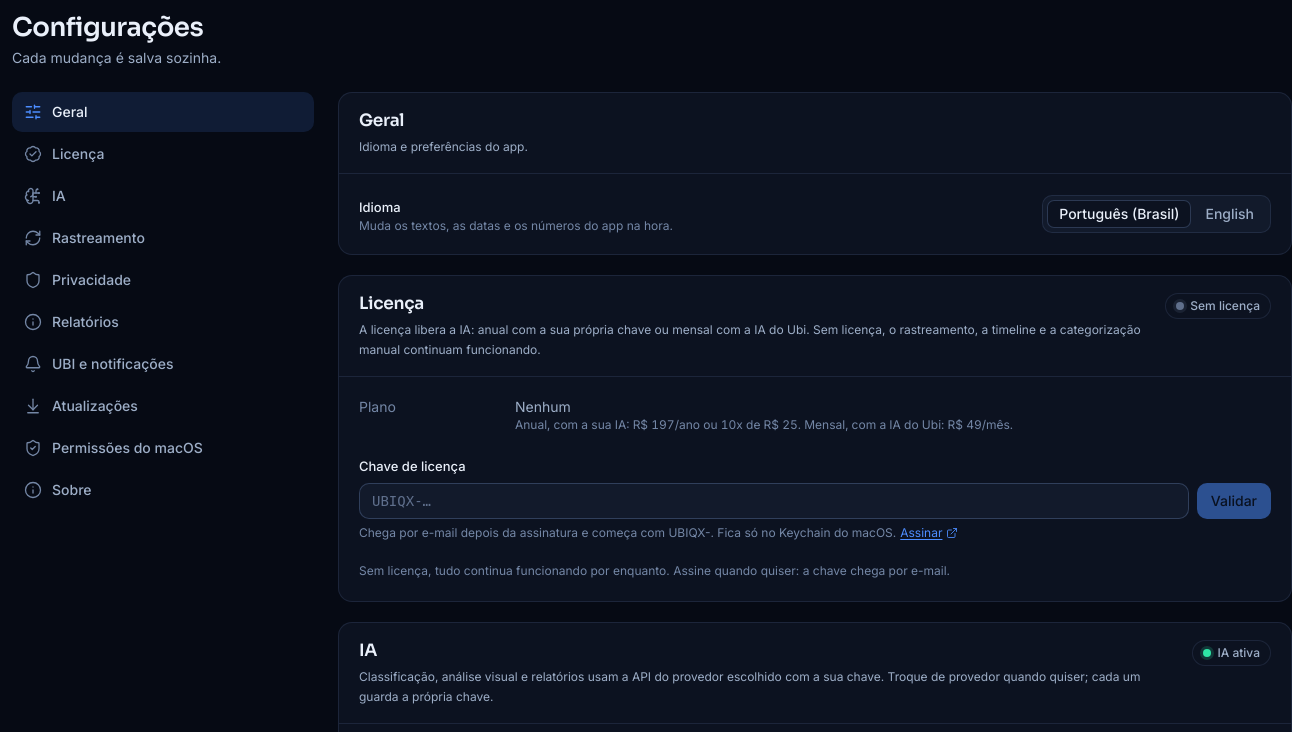
it: Settings · language › switches the whole UI and persists Settings.language from the general section
The width and height of the screenshot is (1292, 732).
Expected: the heading "Configurações" is shown, [12,12,221,44]
Click the radio button labelled "English" at x=1230, y=214, box [1193,200,1266,228]
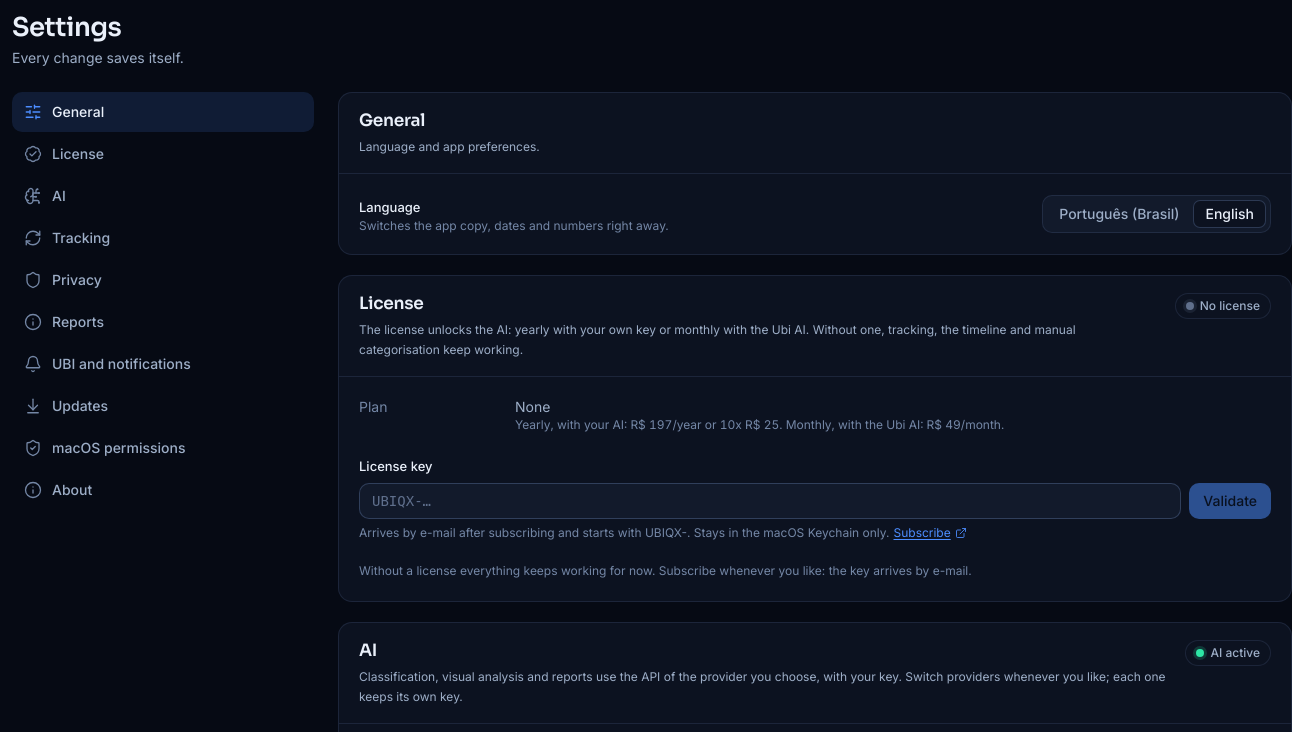
Expected: the heading "Settings" is shown, [12,11,121,44]
Expected: the element named "Language" is shown, [1042,195,1271,233]
// and back
Click the radio button labelled "Português (Brasil)" at x=1119, y=214, box [1047,200,1191,228]
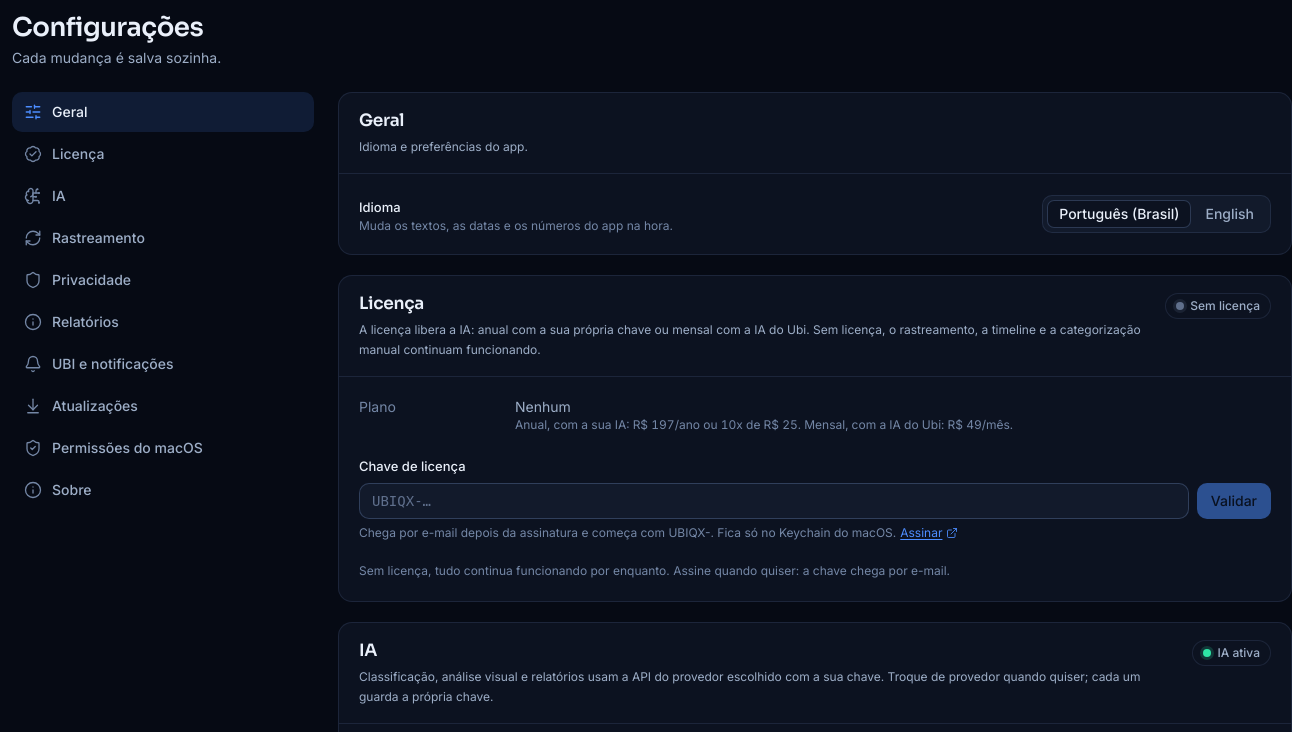
Expected: the heading "Configurações" is shown, [12,12,221,44]
